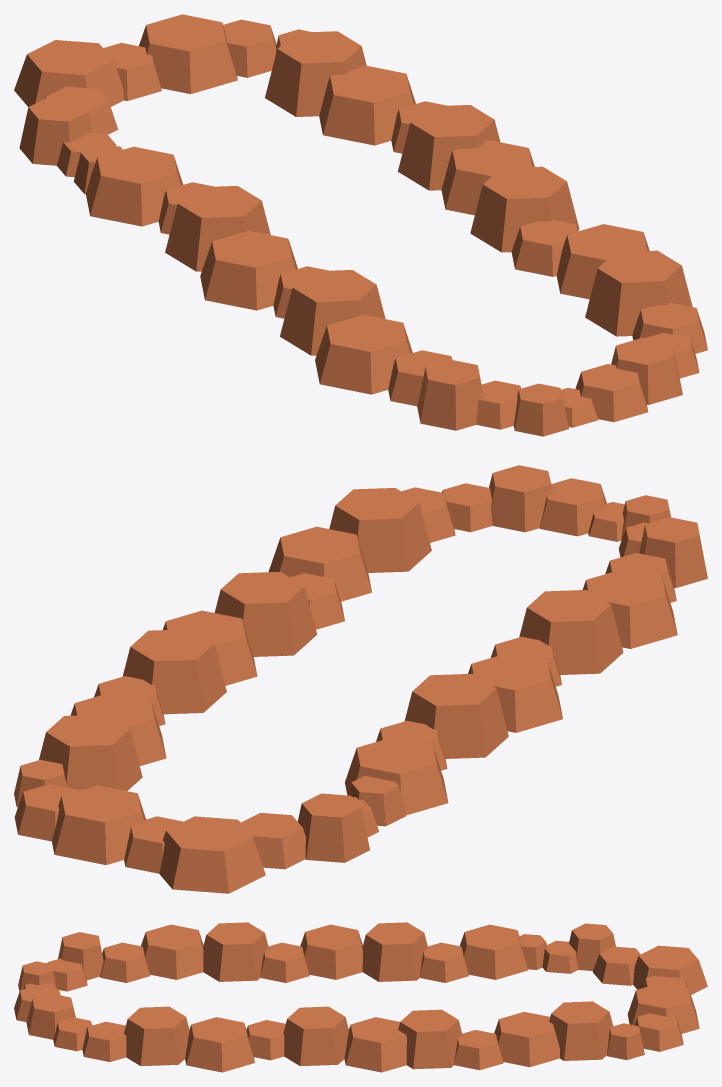
The model's file is graveBorder.obj.
The picture shows the model from 3 angles, top to bottom: view 1: azimuth 30°, elevation 25°; view 2: azimuth 150°, elevation 25°; view 3: azimuth 270°, elevation 25°; orthographic projection. The views are drawn at different scales.
Parts seen in each view (by area): view 1: graveBorder; view 2: graveBorder; view 3: graveBorder.
Boxes of the visible parts, <box> form: graveBorder: <box>14,14,707,436</box>; graveBorder: <box>14,465,707,893</box>; graveBorder: <box>14,922,707,1072</box>.
Size of the model in its own units: 0.5243 by 0.0655 by 1.22.
